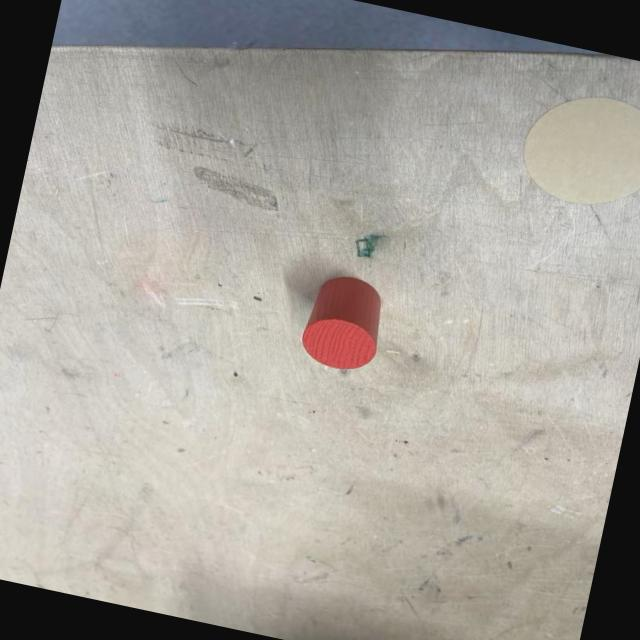red_cylinder: (295, 268, 391, 378)
